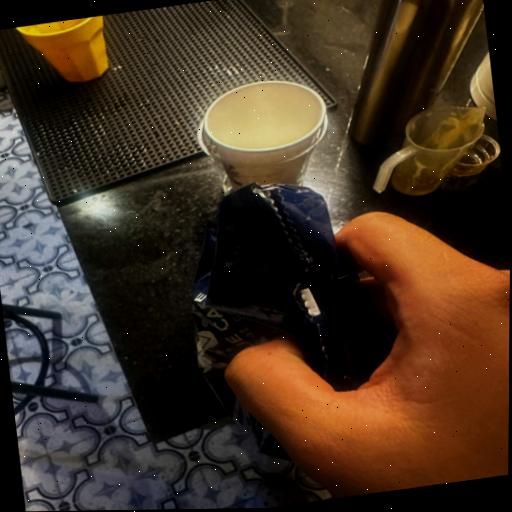cafe_hat: (192, 183, 379, 459)
